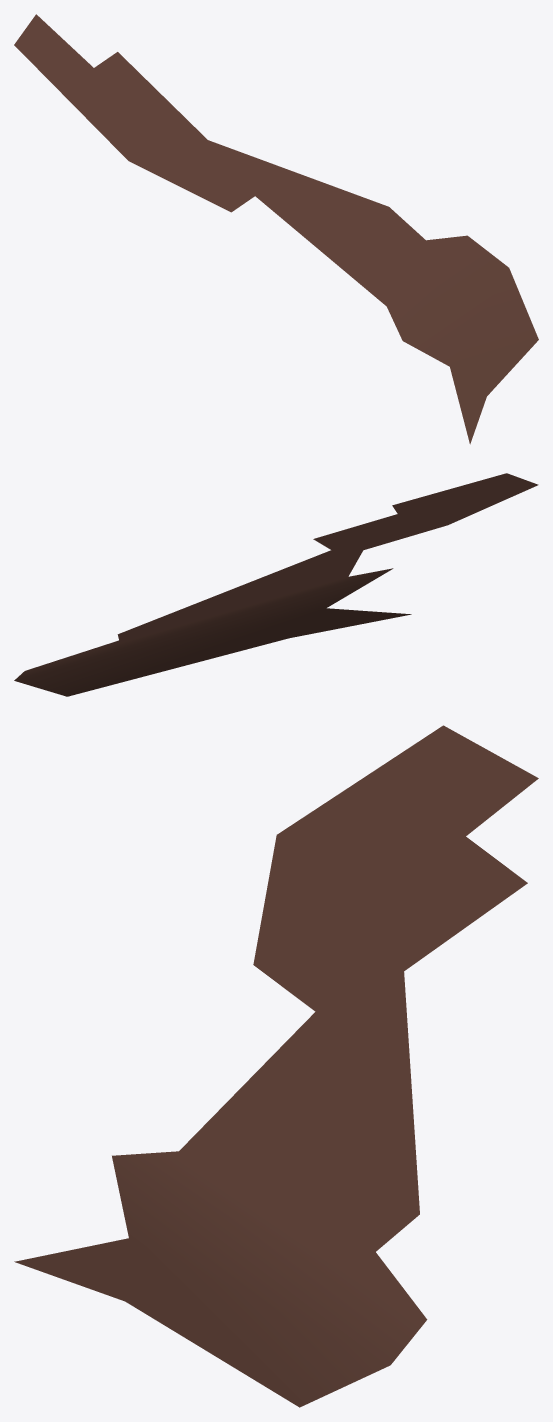
The model's file is original-15.obj.
3 renders of one model, top to bottom at view 1: azimuth 30°, elevation 25°; view 2: azimuth 150°, elevation 25°; view 3: azimuth 270°, elevation 25°, orthographic. The views are drawn at different scales.
Visible parts, largest first — view 1: mesh6/mesh6-geometry#mesh6-geometry; view 2: mesh6/mesh6-geometry#mesh6-geometry; view 3: mesh6/mesh6-geometry#mesh6-geometry.
Part boxes in pixels (left/top/right/bottom): mesh6/mesh6-geometry#mesh6-geometry: left=14, top=14, right=538, bottom=444; mesh6/mesh6-geometry#mesh6-geometry: left=14, top=473, right=538, bottom=696; mesh6/mesh6-geometry#mesh6-geometry: left=14, top=725, right=538, bottom=1407.
Size of the model in its own units: 0.0721 by 0.0528 by 0.0598.
